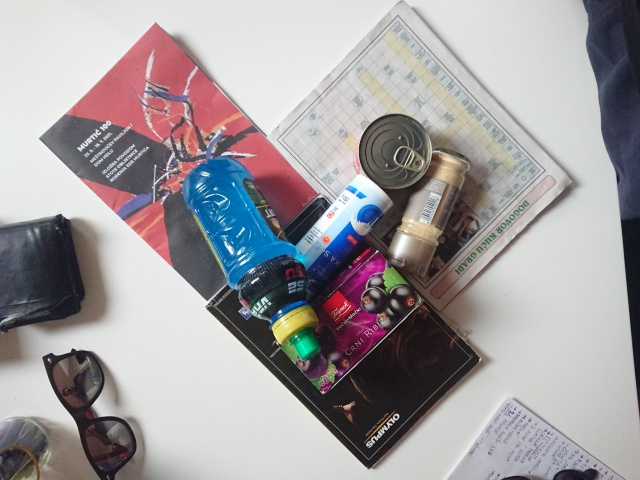Franck Black Currant Tea 60g: (274, 244, 428, 398)
Kotanyi Garlic Granules 70g: (382, 145, 474, 280)
Podravka Luncheon Meat 150g: (356, 111, 435, 192)
Solana Pag Fine Sea Salt 250g: (278, 171, 397, 319)
Vindi Iso Sport Forest Strawberries 500mL: (180, 153, 324, 364)
